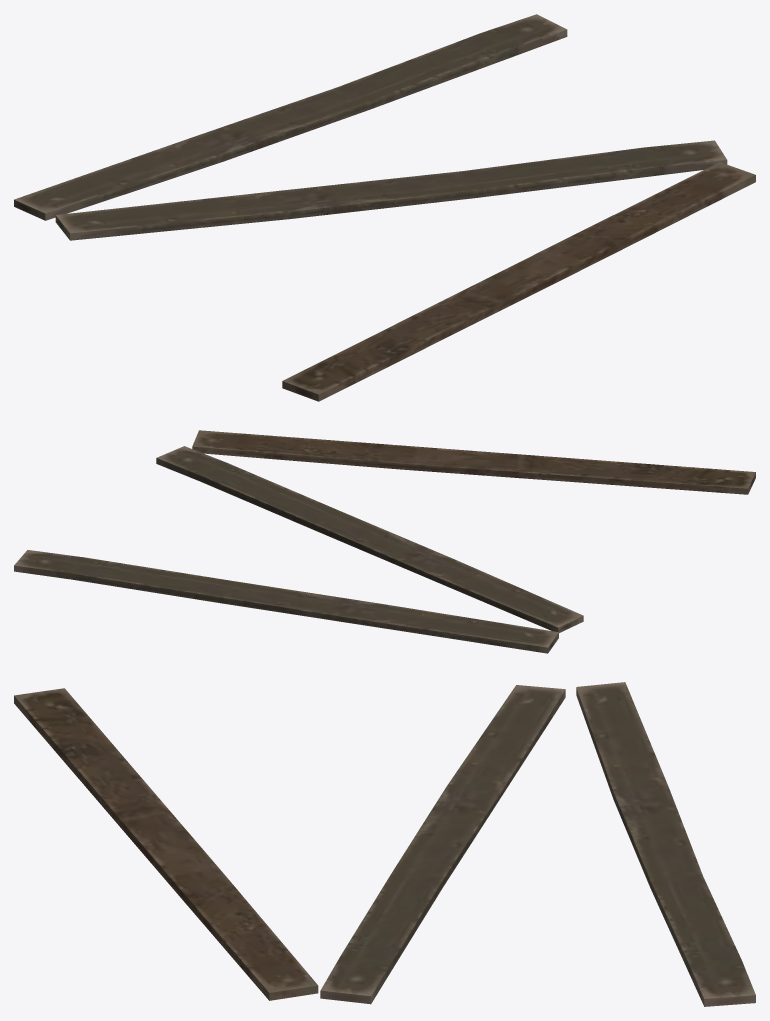
The model's file is floor.frontier_variant_detail_b.glb.
The picture shows the model from 3 angles, top to bottom: view 1: azimuth 30°, elevation 25°; view 2: azimuth 150°, elevation 25°; view 3: azimuth 270°, elevation 25°; orthographic projection. The views are drawn at different scales.
Visible parts, largest first — view 1: floor_b_detail_LOD0; view 2: floor_b_detail_LOD0; view 3: floor_b_detail_LOD0.
Boxes of the visible parts, x1,y1,x2,y2 form: floor_b_detail_LOD0: [14, 14, 755, 401]; floor_b_detail_LOD0: [14, 430, 755, 653]; floor_b_detail_LOD0: [14, 682, 755, 1006].
Size of the model in its own units: 3 by 0.048 by 2.97.
Materials: 1 (1 with a texture image).
